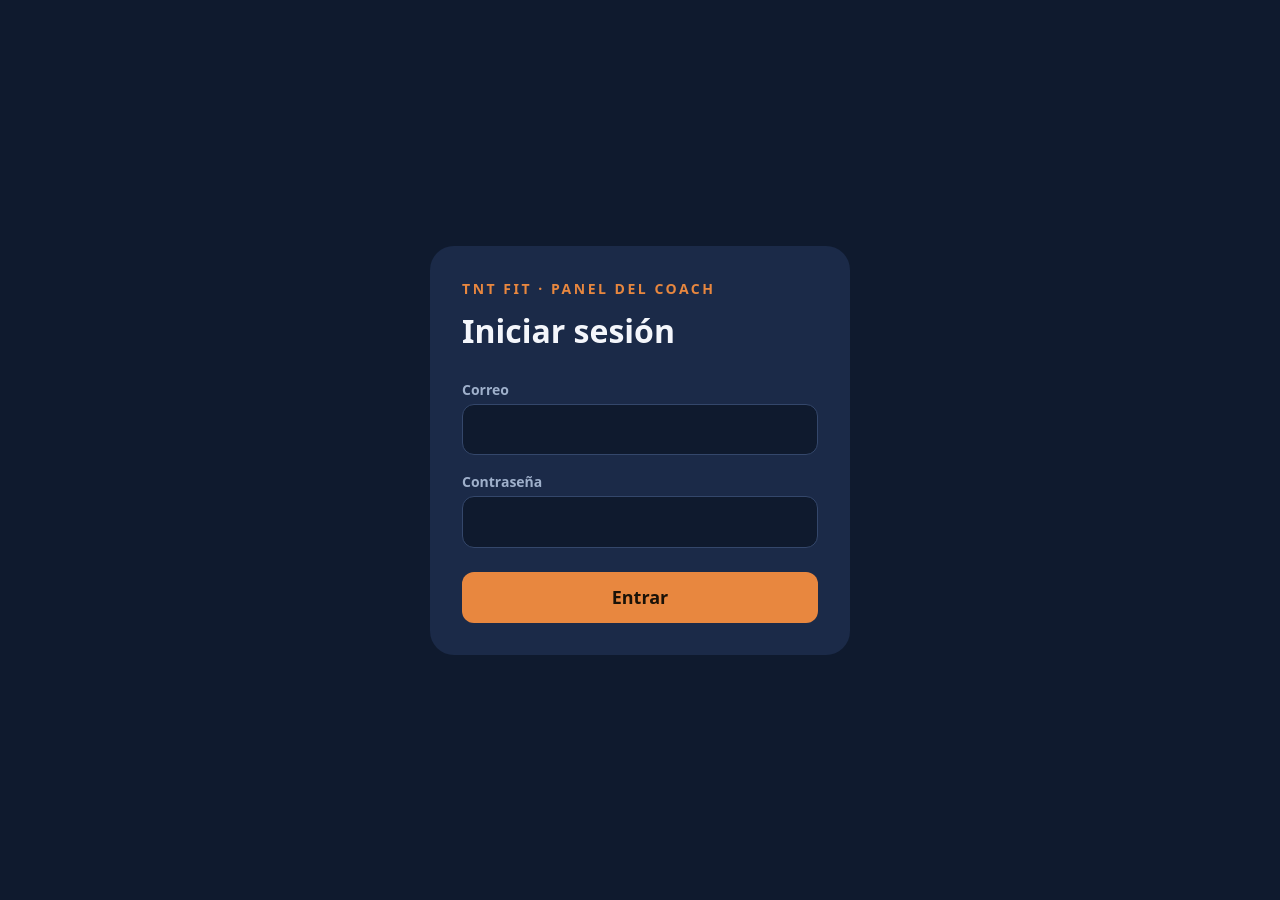
Test: login › login correcto entra al panel y guarda el rol
The width and height of the screenshot is (1280, 900).
In the field labelled "Correo": (640, 429) [462,404,818,455], type "coach@tnt.demo"
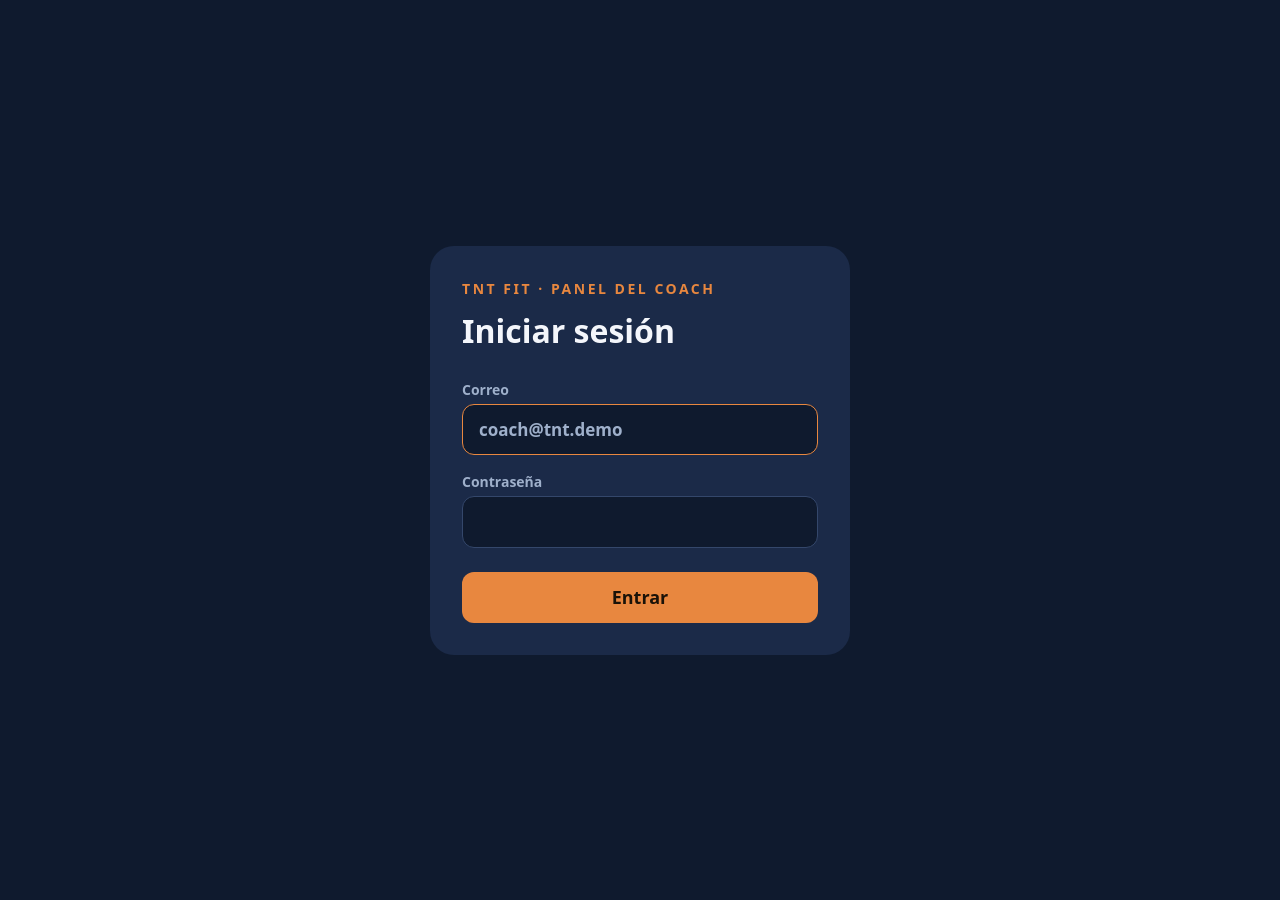
In the password field labelled "Contraseña": (640, 522) [462,496,818,548], type "bien"
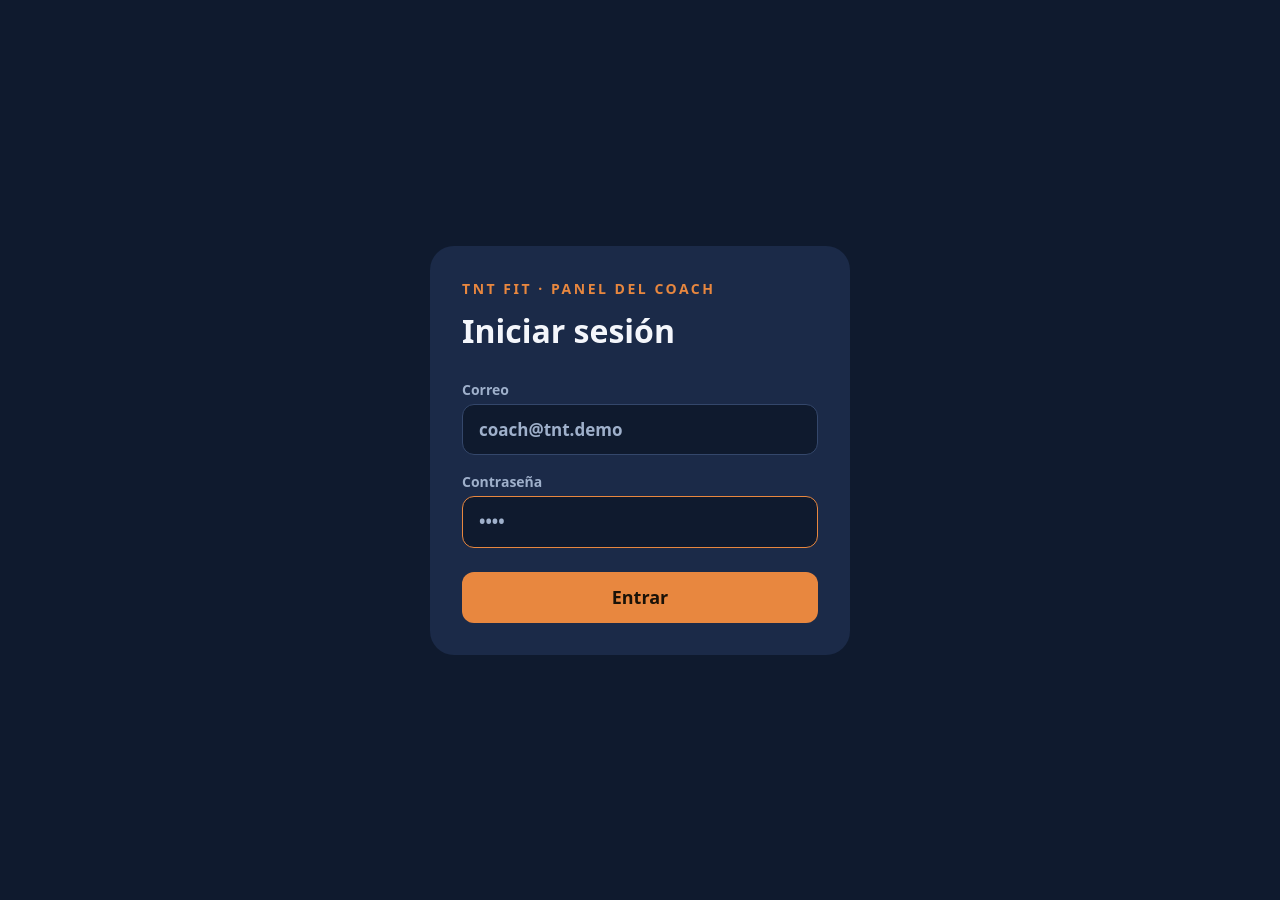
Click the button "Entrar": (640, 597) [462,572,818,622]
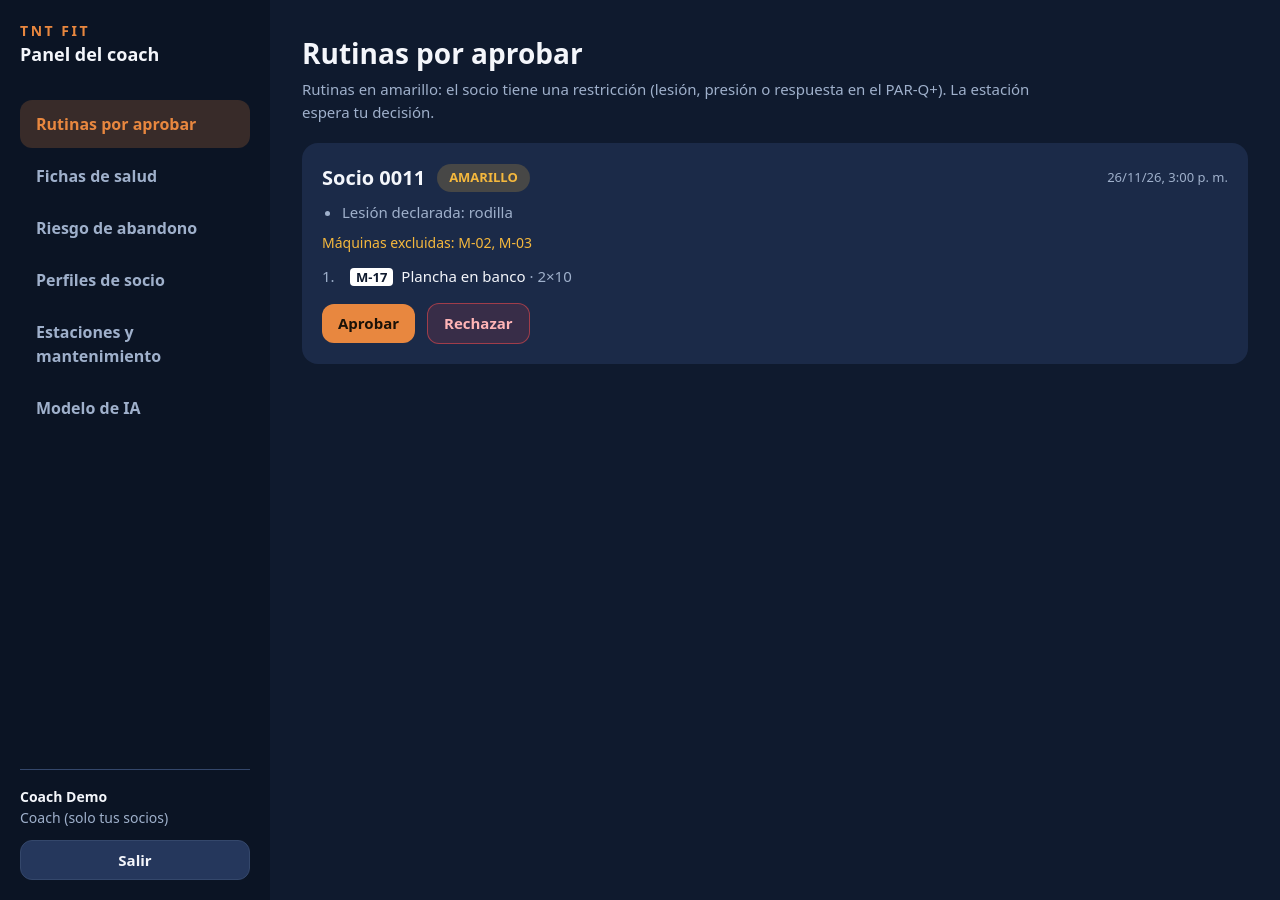
Result: the heading "Rutinas por aprobar" is shown at [302,34,583,72]
Result: the text "Coach (solo tus socios)" is shown at [20,808,168,826]
